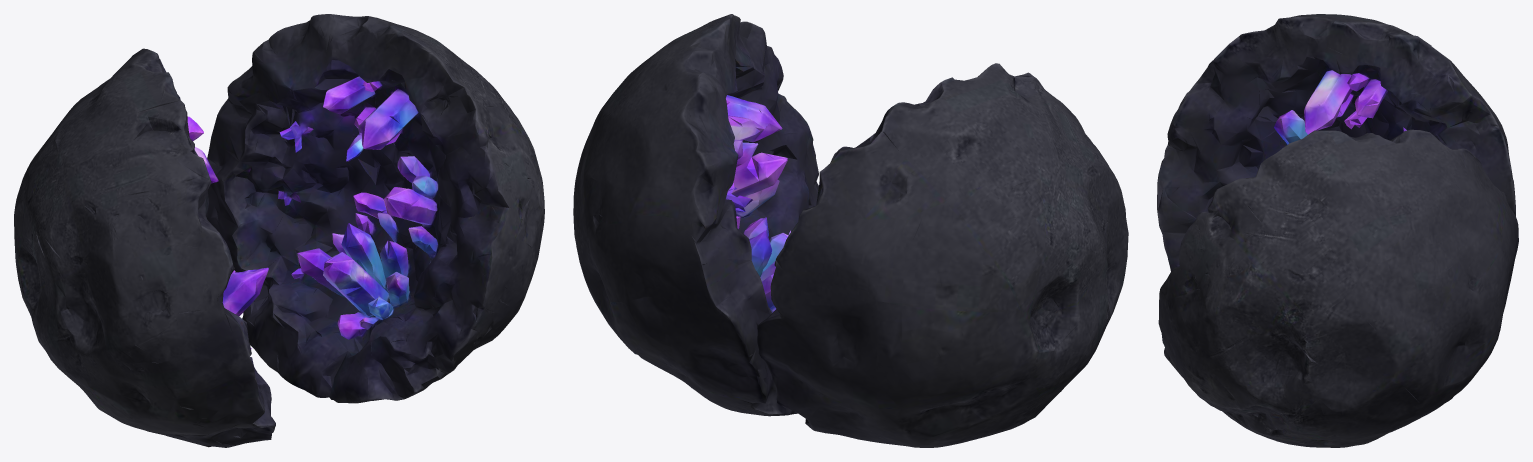
File: cristaux-geode.glb
The picture shows the model from 3 angles, left to right: view 1: azimuth 30°, elevation 25°; view 2: azimuth 150°, elevation 25°; view 3: azimuth 270°, elevation 25°; orthographic projection. The views are drawn at different scales.
Bounding box in the file's own units: 0.9791 × 0.7009 × 0.6816.
1 material, 1 textured.
